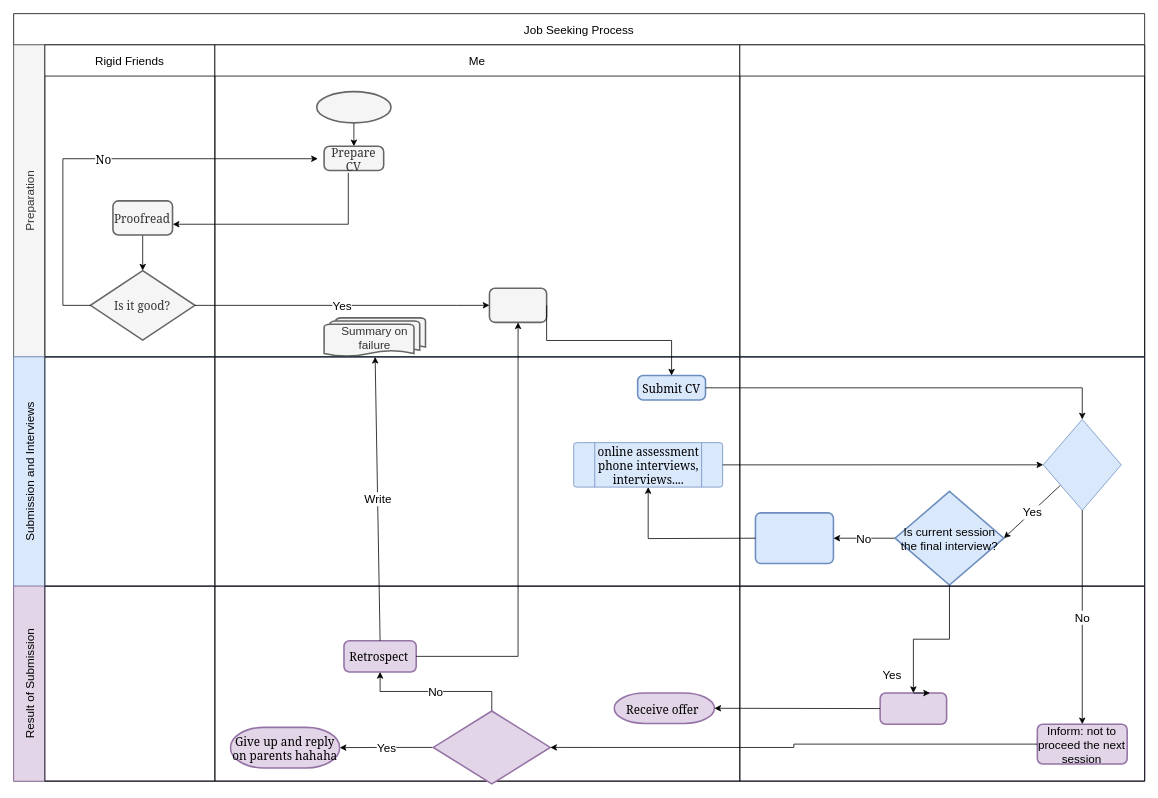
This 1158x798 diagram has some shape labels left out. Each missing label, with the centre of its shape:
Choose position: the point at 517,305
Critical Company: the point at 942,200
Failed over 300 Submissions: the point at 491,747
Inform: offer the job: the point at 913,708
Inform: proceed the next session: the point at 794,538
Pass the current session?: the point at 1081,464
Start seeking: the point at 353,106
